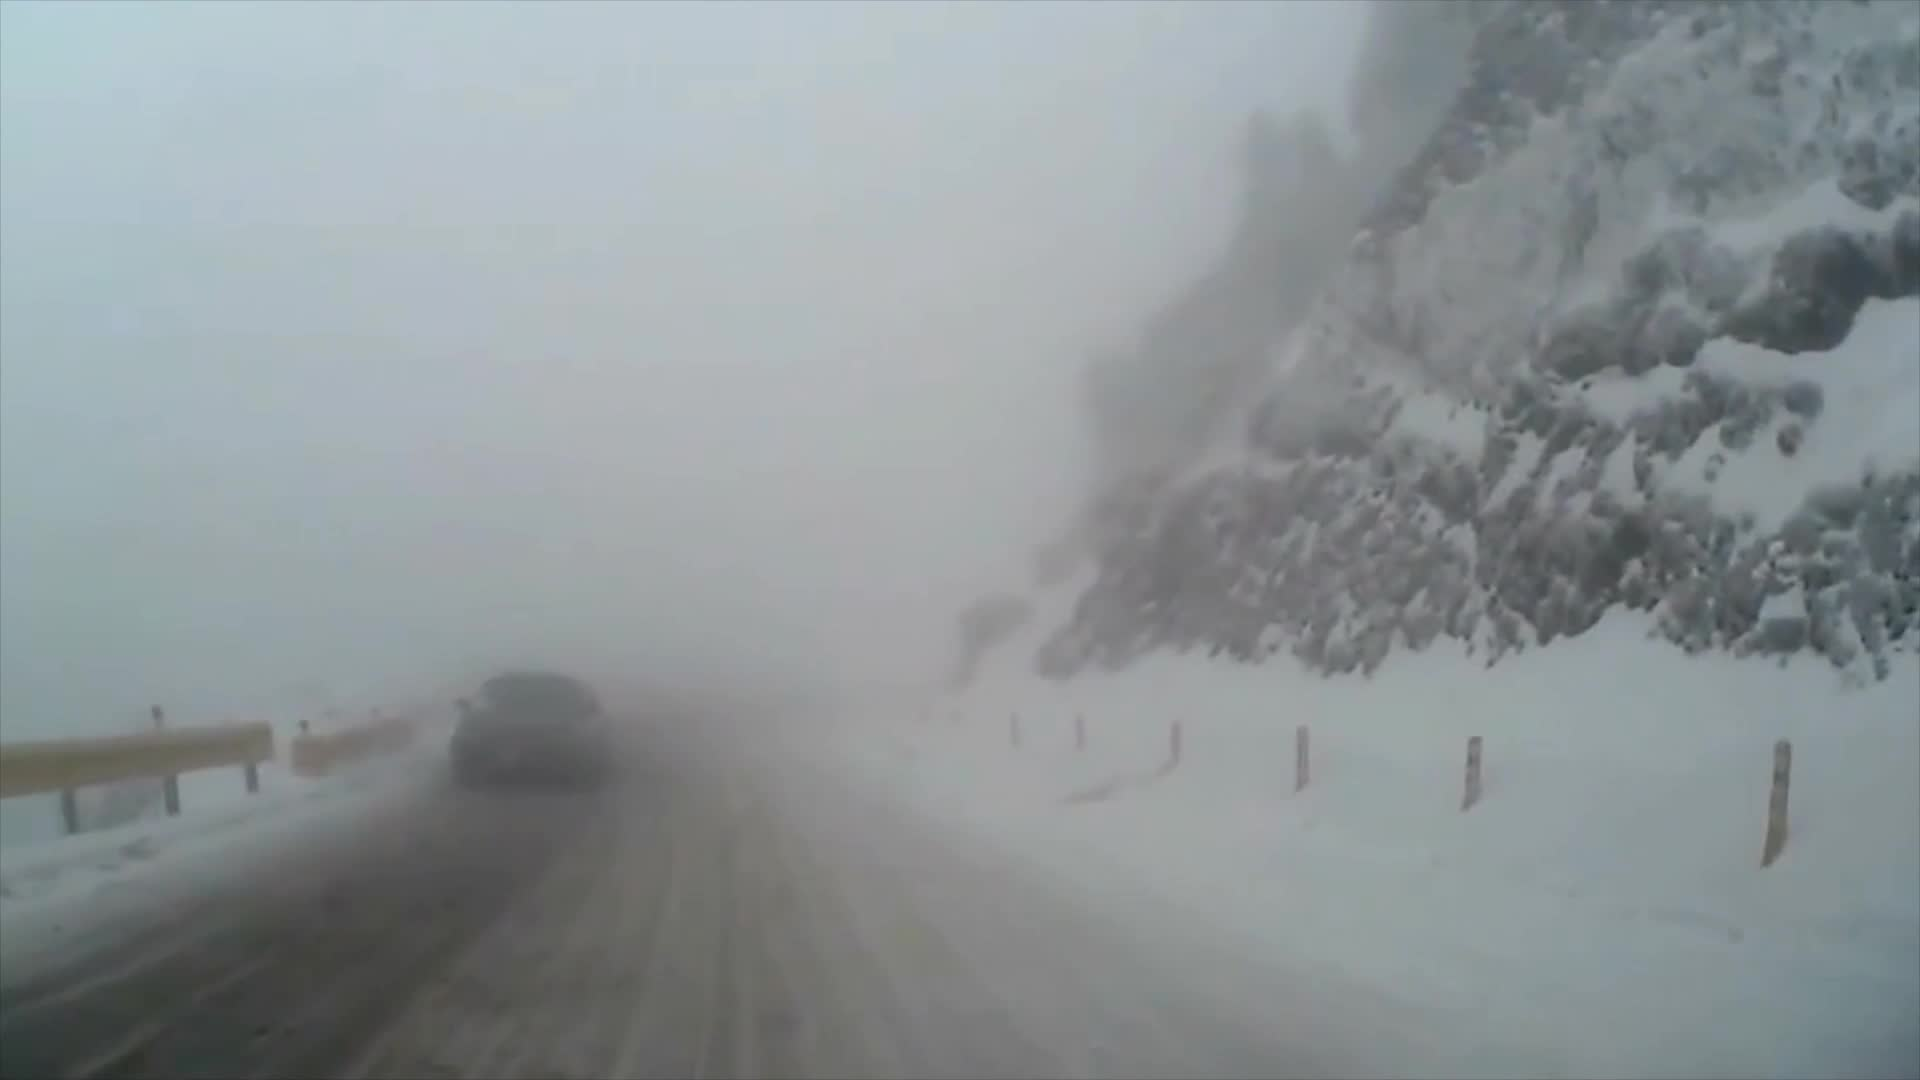vehicle: (447, 669, 612, 787)
